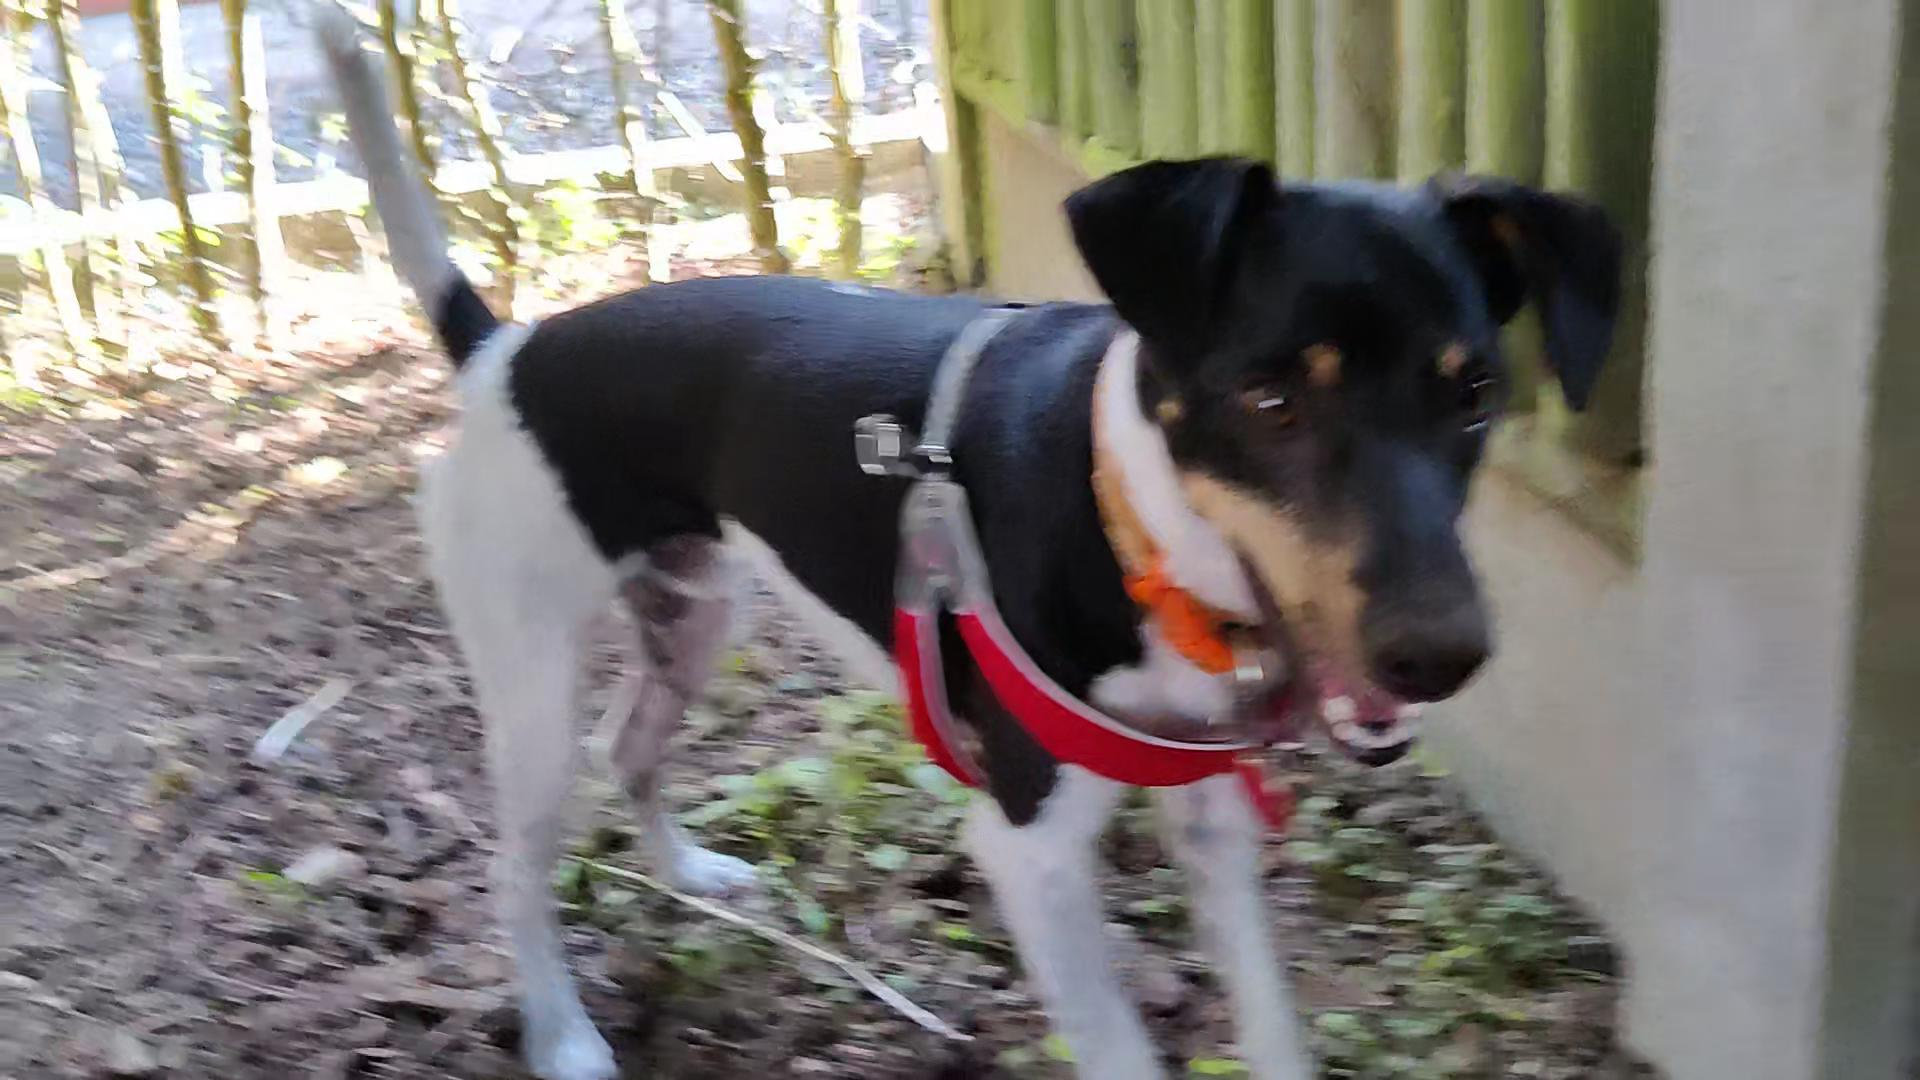Dog: (305, 0, 1635, 1080)
